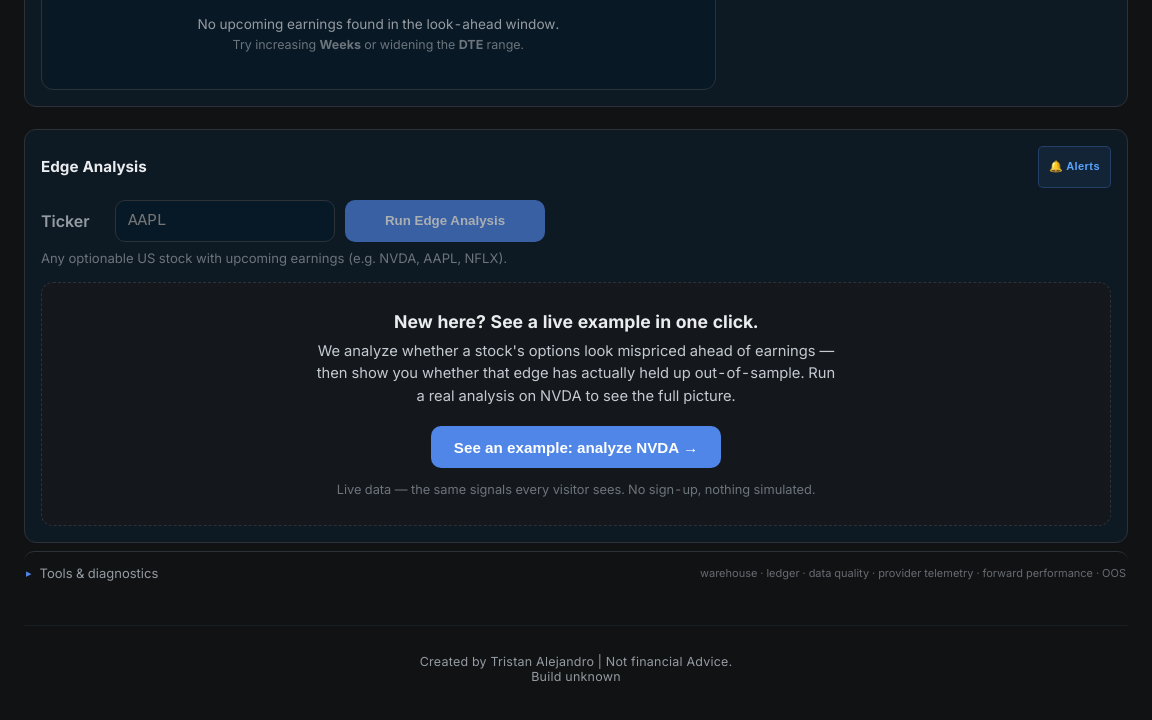
App — decision-first result tabs › first load shows the example-analysis empty state; the demo CTA runs an analysis
The width and height of the screenshot is (1152, 720).
(page scrolled)
Expected: the text "New here? See a live example in one click." is shown, [394,311,758,332]
Expected: the text "the same signals every visitor sees" is shown, [337,482,815,497]
Click the button "See an example: analyze NVDA →" at (576, 447), box [431,426,721,468]
(page scrolled)
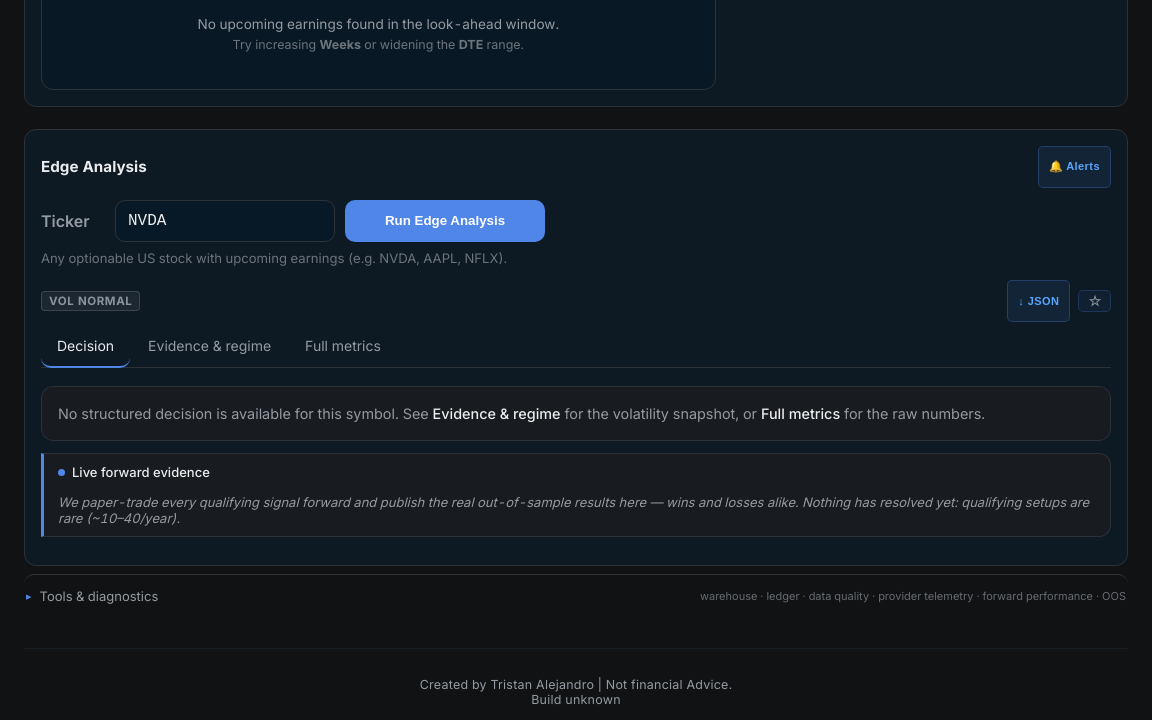
Expected: the tab "Decision" is shown, [41,326,130,368]
Expected: the text "See a live example in one click" is gone
